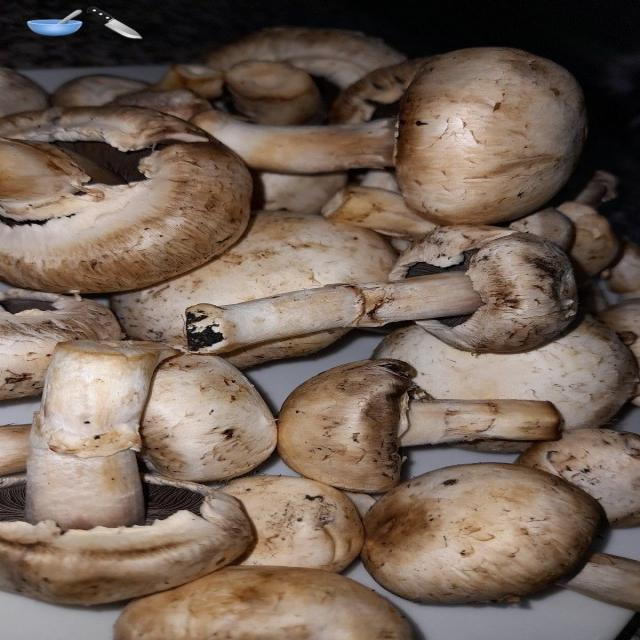champignon mushrooms: (193, 47, 585, 223), (0, 341, 251, 604), (186, 227, 576, 353), (0, 107, 250, 292), (362, 463, 639, 608), (112, 212, 395, 345), (279, 359, 559, 492), (375, 316, 637, 429), (390, 226, 577, 352), (115, 567, 413, 639), (140, 355, 276, 481), (141, 355, 276, 481), (222, 476, 364, 572), (0, 289, 121, 399), (192, 110, 395, 173), (206, 27, 404, 88), (517, 429, 639, 526), (329, 58, 431, 123), (558, 171, 618, 277), (225, 60, 321, 125), (321, 185, 435, 239), (321, 185, 435, 238), (227, 61, 320, 124), (253, 172, 347, 213), (108, 89, 211, 120), (52, 75, 149, 107), (509, 207, 575, 251), (599, 298, 639, 362), (151, 64, 224, 98), (0, 68, 47, 116), (602, 239, 639, 298), (0, 424, 31, 475)
